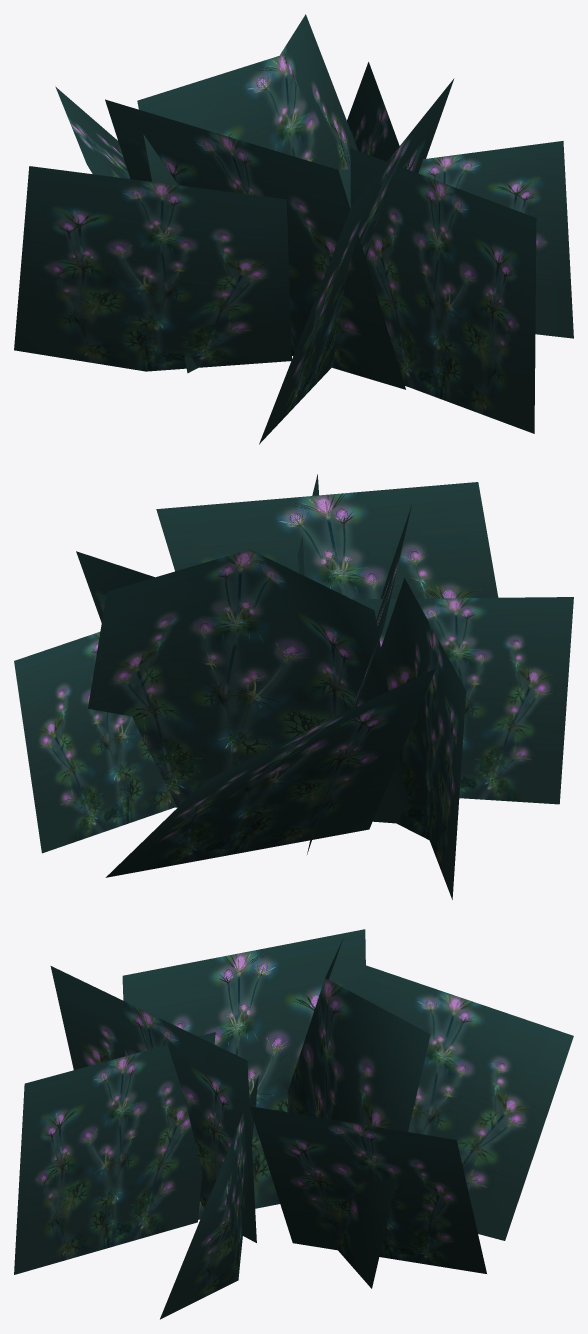
The model's file is GlowBush1.fbx.
3 renders of one model, top to bottom at view 1: azimuth 30°, elevation 25°; view 2: azimuth 150°, elevation 25°; view 3: azimuth 270°, elevation 25°, orthographic. The views are drawn at different scales.
Parts seen in each view (by area): view 1: LV_Common_Foliage_A_GlowBush01_PM_LBR; view 2: LV_Common_Foliage_A_GlowBush01_PM_LBR; view 3: LV_Common_Foliage_A_GlowBush01_PM_LBR.
Part boxes in pixels (<box>): LV_Common_Foliage_A_GlowBush01_PM_LBR: <box>14,14,573,444</box>; LV_Common_Foliage_A_GlowBush01_PM_LBR: <box>14,474,573,899</box>; LV_Common_Foliage_A_GlowBush01_PM_LBR: <box>14,929,573,1319</box>.
Bounding box in the file's own units: 39.66 × 22.88 × 45.1.
